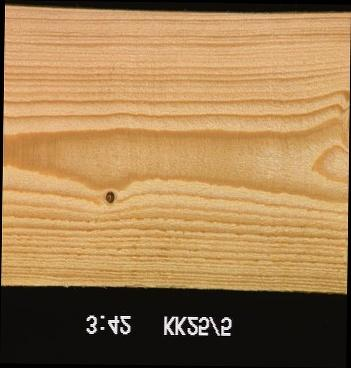dry_knot: (102, 190, 115, 205)
